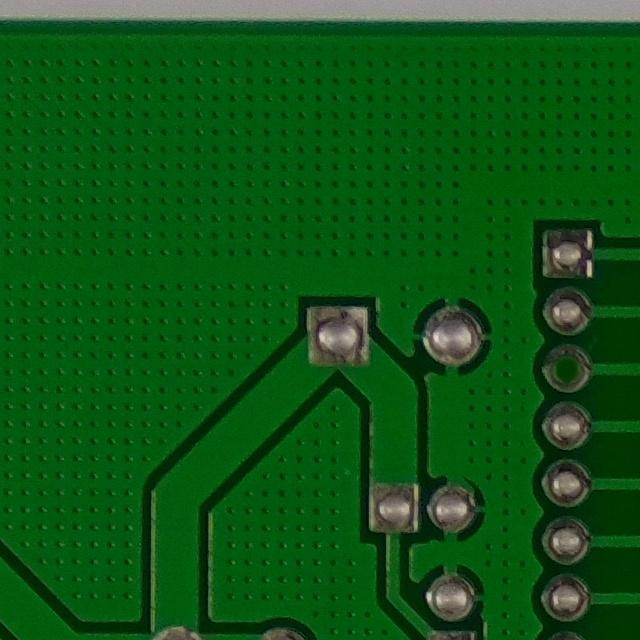missing_hole: (533, 334, 599, 396)
